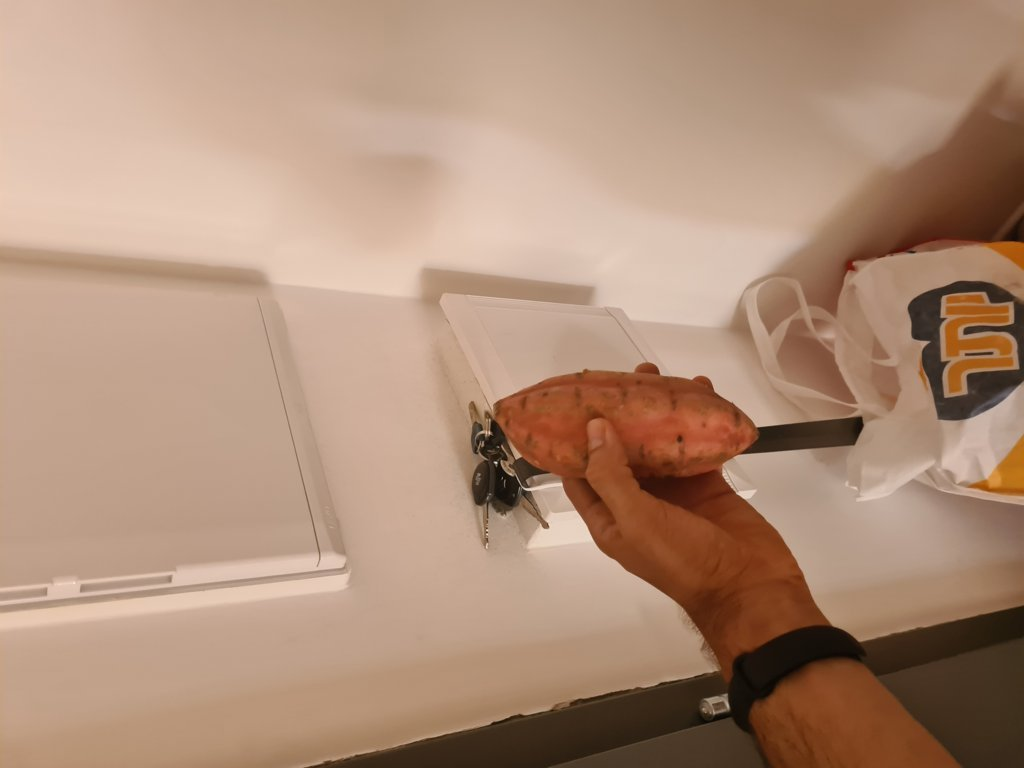Sweet Potatow: (492, 381, 765, 492)
